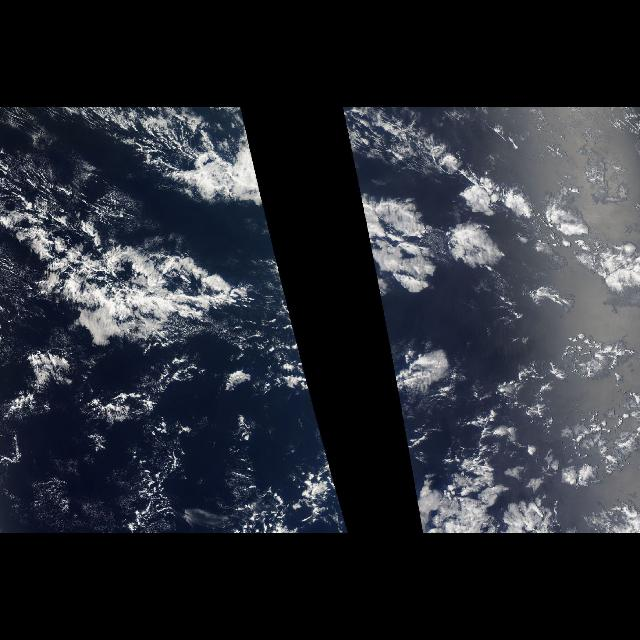Fish: (1, 203, 290, 401)
Flower: (353, 168, 514, 306)
